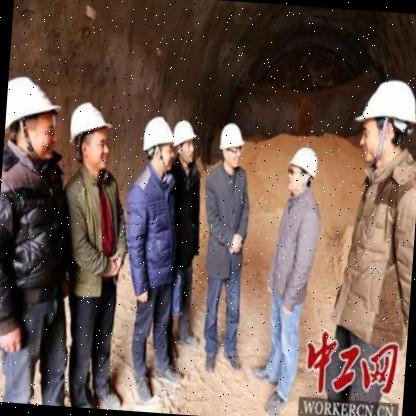bota: (130, 362, 154, 402), (263, 381, 289, 416), (154, 359, 184, 384), (251, 361, 280, 384), (176, 328, 201, 349)
capacete: (350, 78, 416, 164), (4, 74, 64, 160), (68, 100, 114, 171), (141, 115, 176, 172), (284, 146, 318, 195), (218, 120, 245, 170), (171, 119, 197, 164)
oculos: (284, 168, 307, 180), (225, 144, 243, 157)
